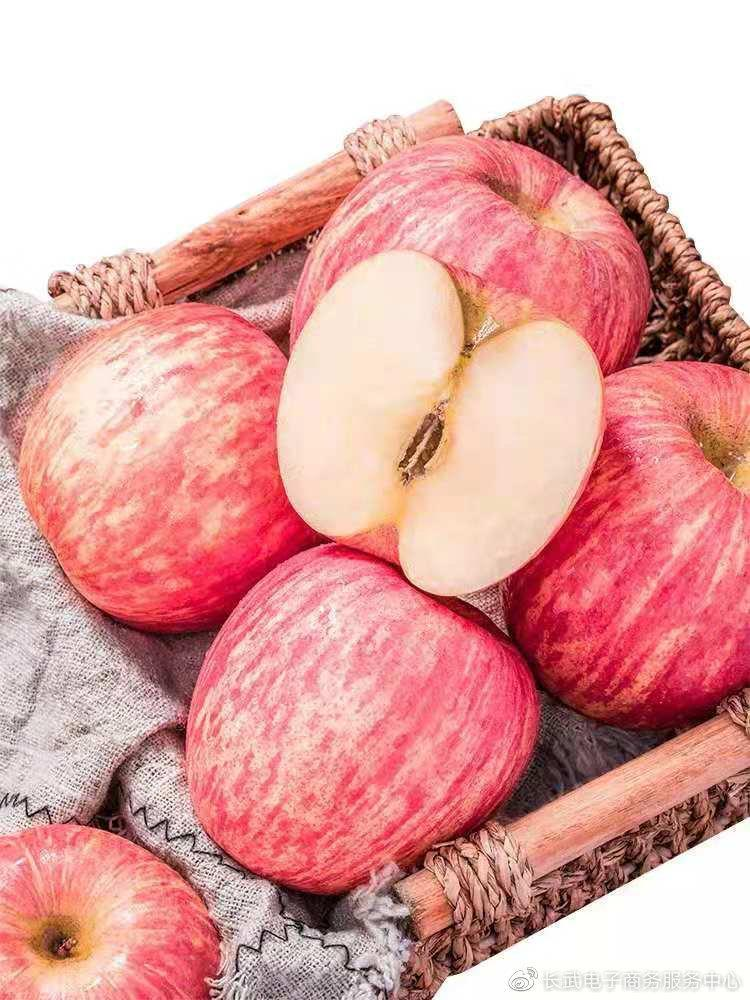apple: (179, 539, 542, 891), (274, 247, 604, 597), (20, 297, 327, 633), (501, 358, 750, 727), (285, 133, 651, 371), (1, 823, 223, 998)
